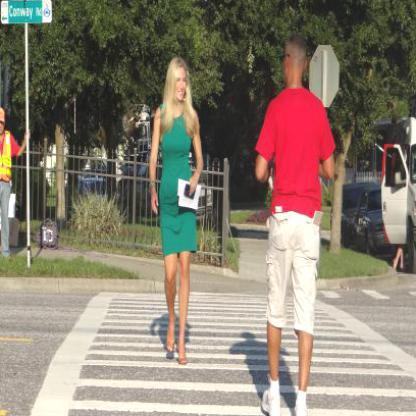person: (258, 36, 330, 416), (150, 57, 201, 367), (0, 106, 18, 260)
